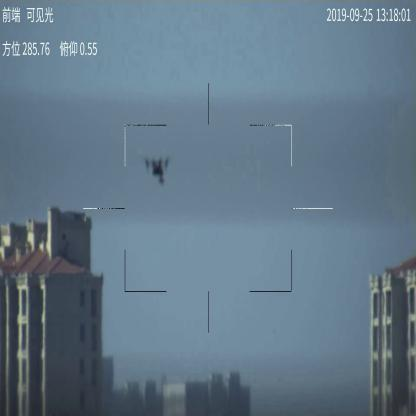uav: (144, 154, 171, 185)
